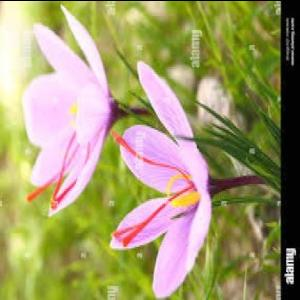Saffron: (110, 66, 235, 288), (20, 1, 126, 211)
